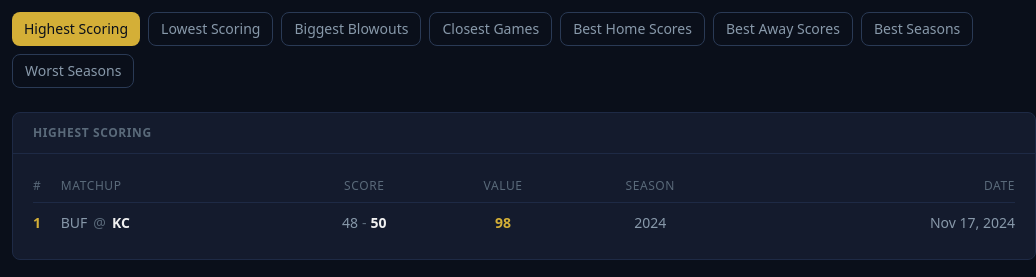
RecordsDashboard › switches to closest games
The width and height of the screenshot is (1036, 277).
Click the button "Closest Games" at [491, 29], box [430,12,552,46]
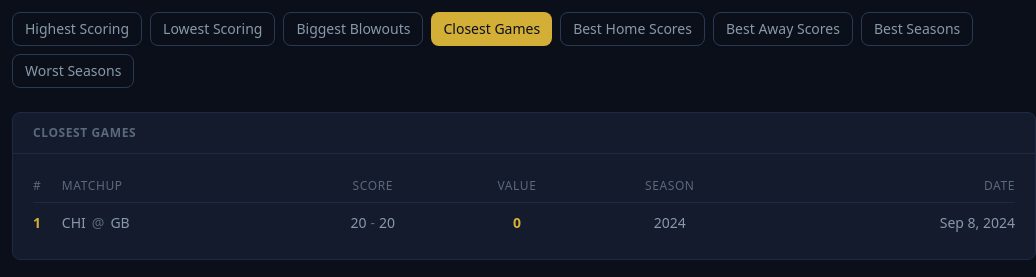
Now the text "0" is shown, box [450,202,584,243]
